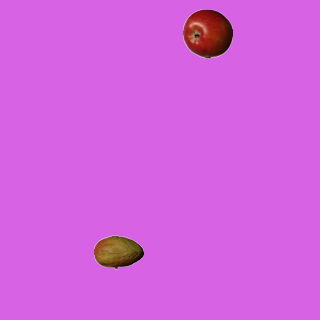Apple Braeburn: (182, 8, 232, 58)
Papaya: (93, 227, 143, 277)
